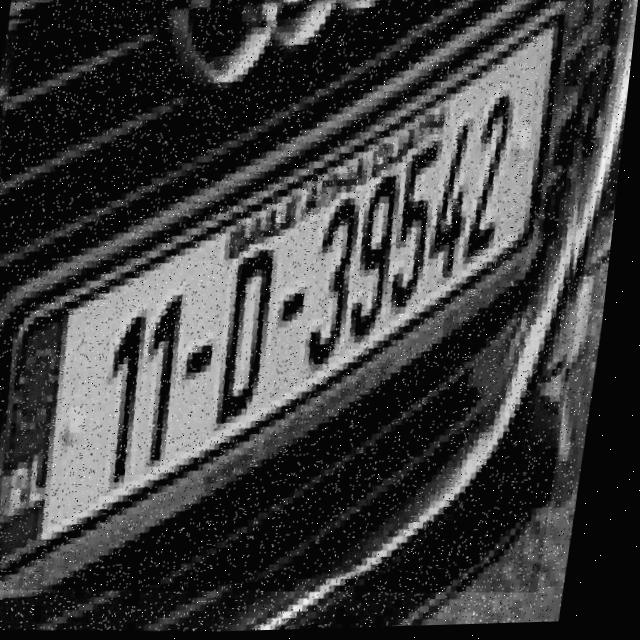LicensePlate: (0, 0, 625, 610)
